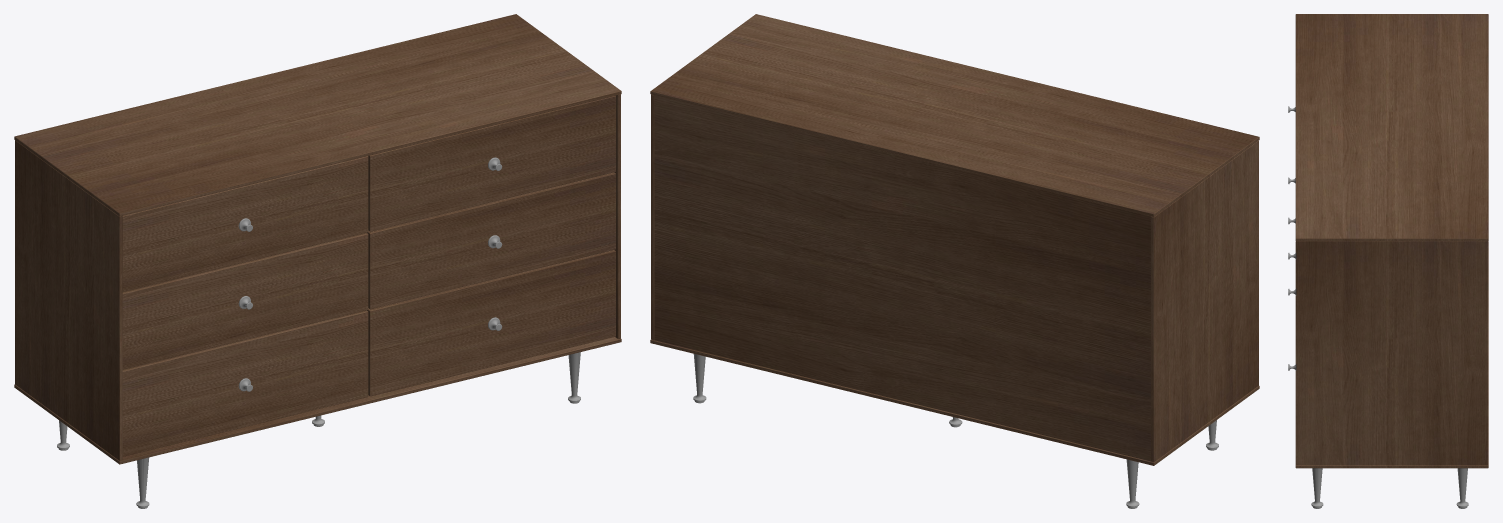
Rendered from master_dresser.glb.
3 renders of one model, left to right at view 1: azimuth 30°, elevation 25°; view 2: azimuth 150°, elevation 25°; view 3: azimuth 270°, elevation 25°, orthographic. The views are drawn at different scales.
Visible parts, largest first — view 1: BP_ADIB02292; view 2: BP_ADIB02292; view 3: BP_ADIB02292.
Boxes of the visible parts, left/top/right/bottom form: BP_ADIB02292: left=14, top=14, right=621, bottom=508; BP_ADIB02292: left=650, top=14, right=1259, bottom=508; BP_ADIB02292: left=1288, top=14, right=1488, bottom=508.
Size of the model in its own units: 1.38 by 0.8173 by 0.521.
2 materials, 1 textured.
